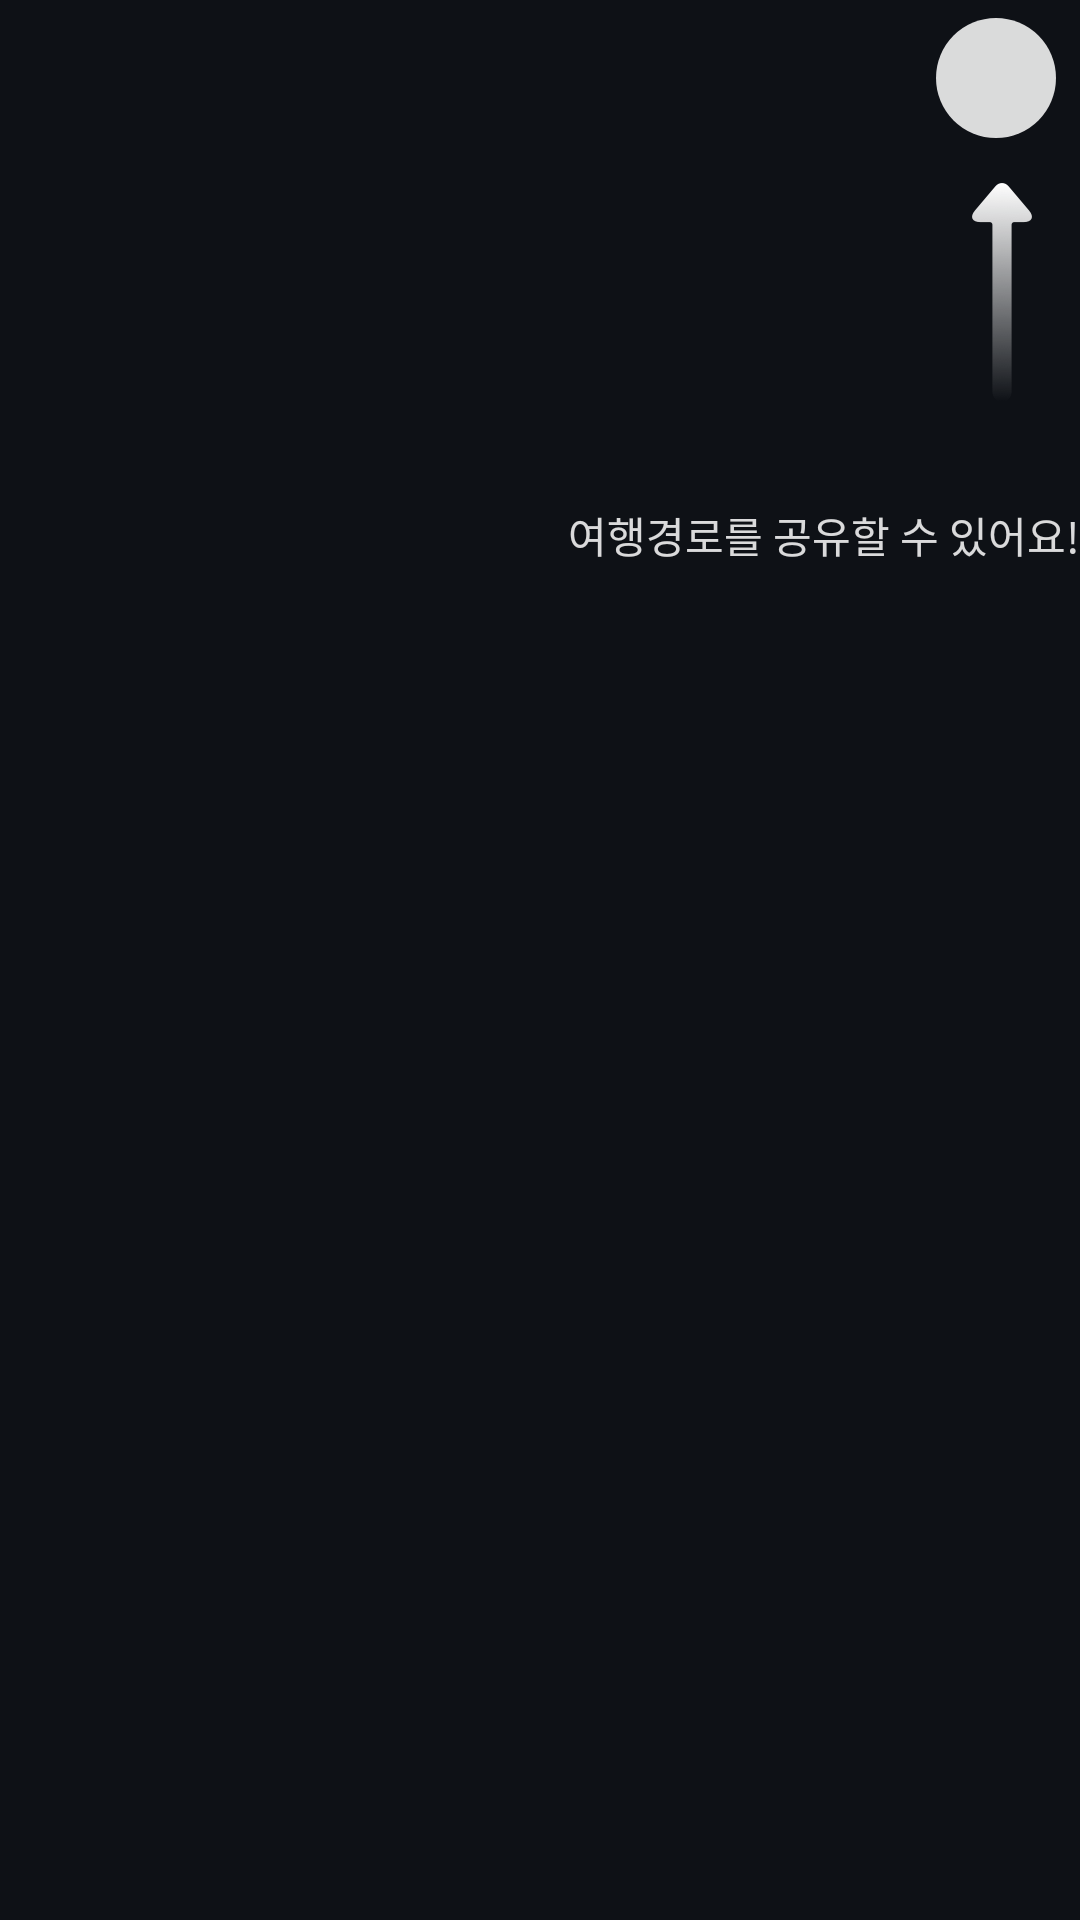

Icon click points for this 1080x1920 phone screenshot, format (x=x, y=y):
coachmark up: (x=1002, y=281)
